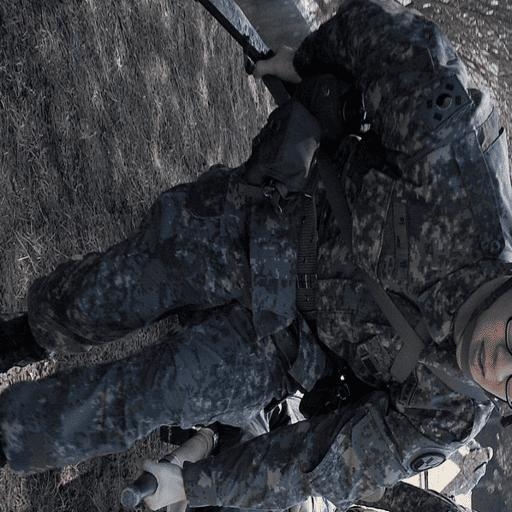korea army: (0, 0, 510, 511)
